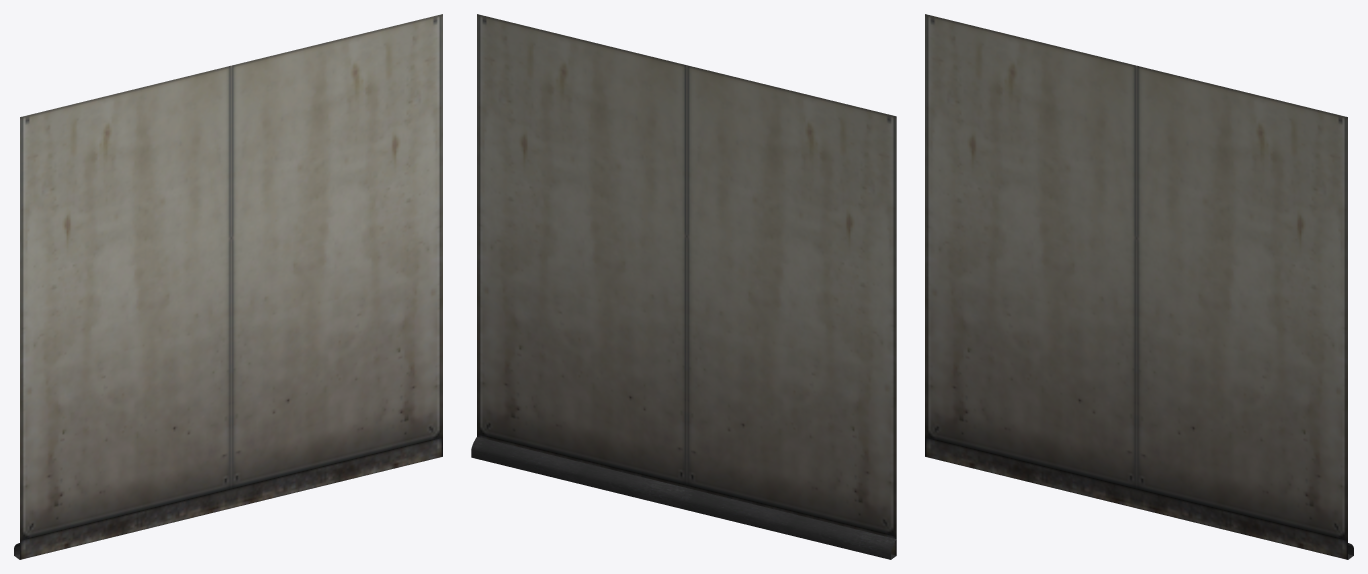
File: lab_flat_extender_large.dae
3 views of the same model, side by side, from view 1: azimuth 30°, elevation 25°; view 2: azimuth 150°, elevation 25°; view 3: azimuth 330°, elevation 25° (orthographic).
Parts seen in each view (by area): view 1: lab_flat_extender_large; view 2: lab_flat_extender_large; view 3: lab_flat_extender_large.
Boxes of the visible parts, x1,y1,x2,y2 form: lab_flat_extender_large: [14, 14, 442, 559]; lab_flat_extender_large: [471, 14, 896, 559]; lab_flat_extender_large: [925, 14, 1353, 559].
Size of the model in its own units: 4 by 4 by 0.0961.
